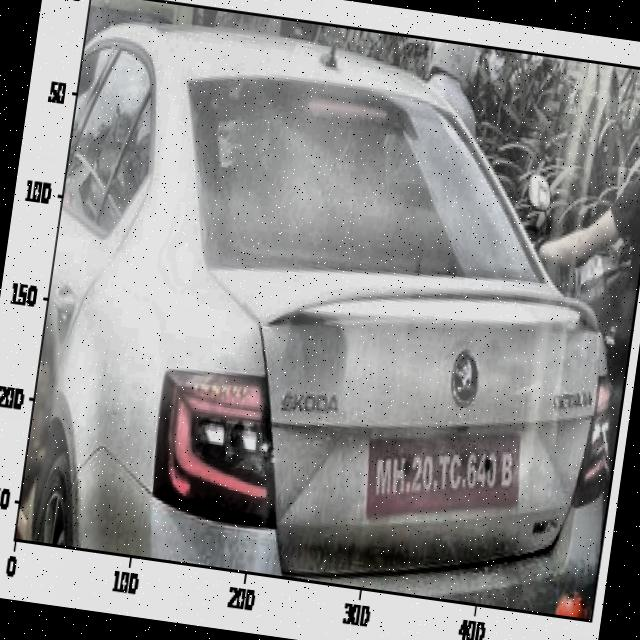license_plate: (367, 428, 522, 522)
